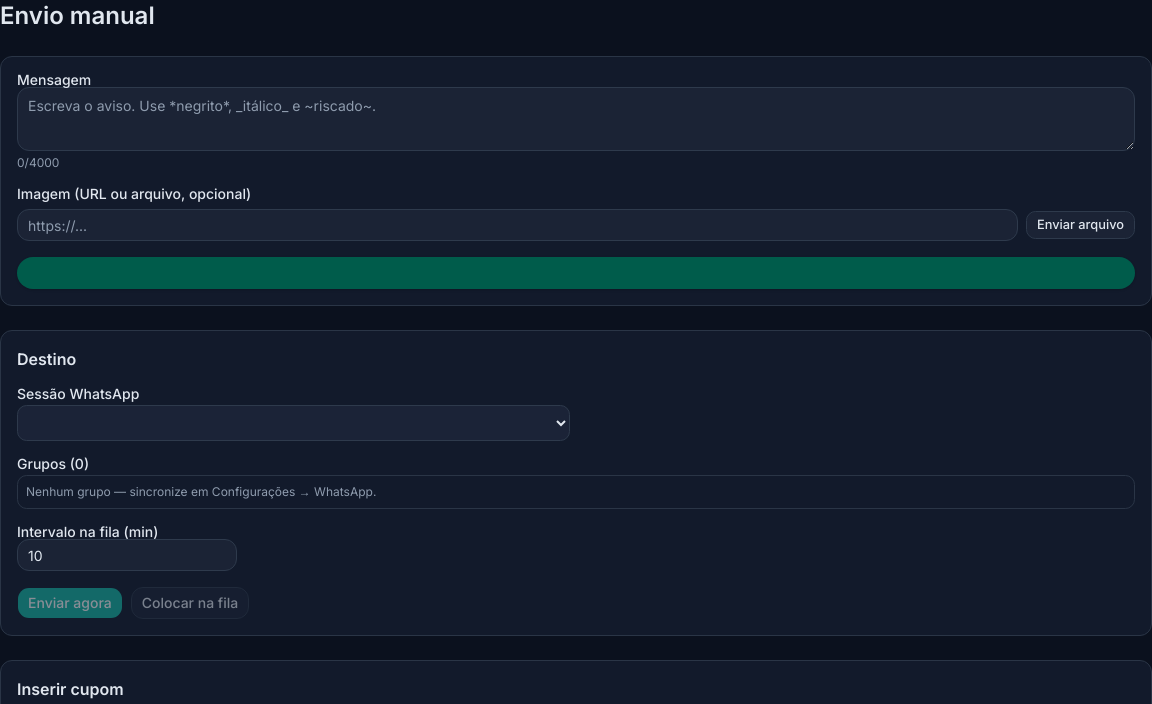
it: página de envio manual › mostra a prévia do texto digitado
In the text box labelled "Mensagem": (576, 119) [17,87,1135,151], type "*Olá* grupo"
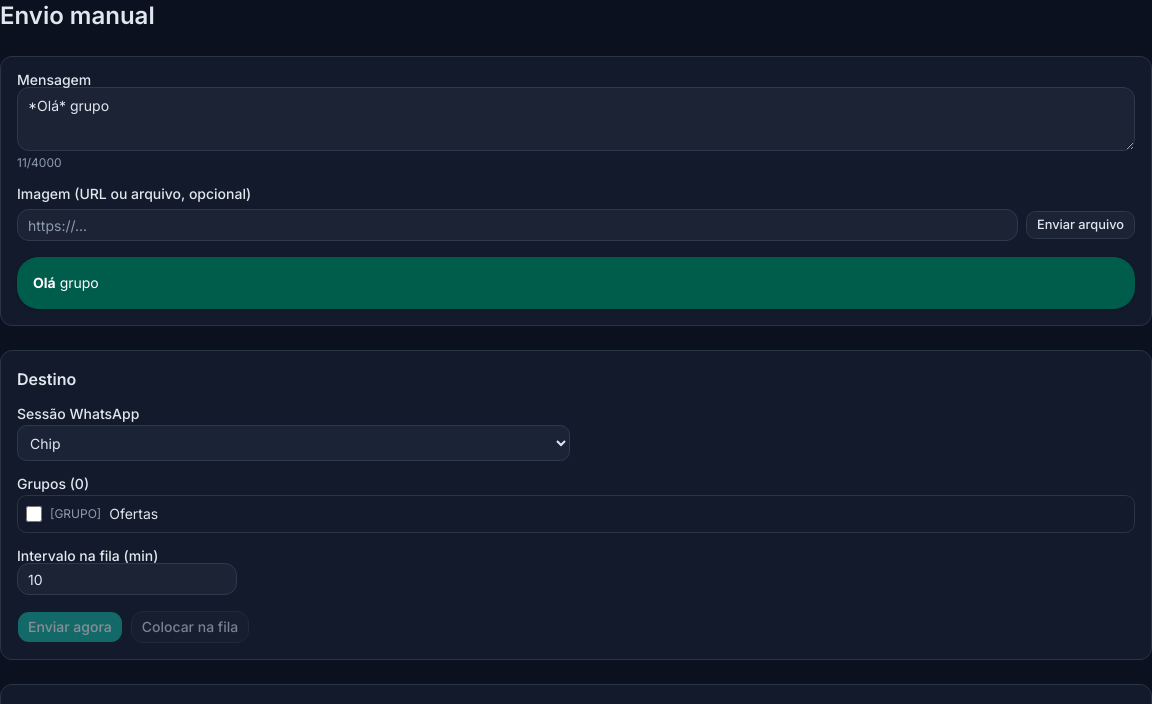
Expected: the element with test id "manual-preview" shows "Olá", [33,274,56,291]
